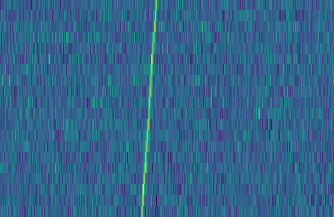signal: (137, 0, 161, 217)
